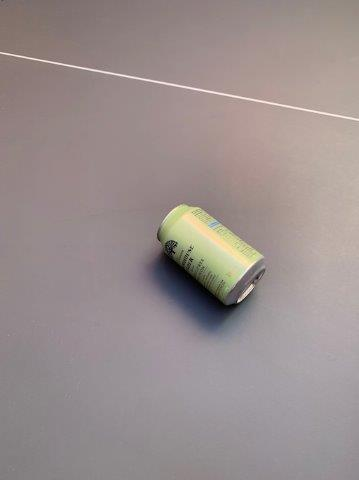kaleng: (155, 202, 266, 305)
